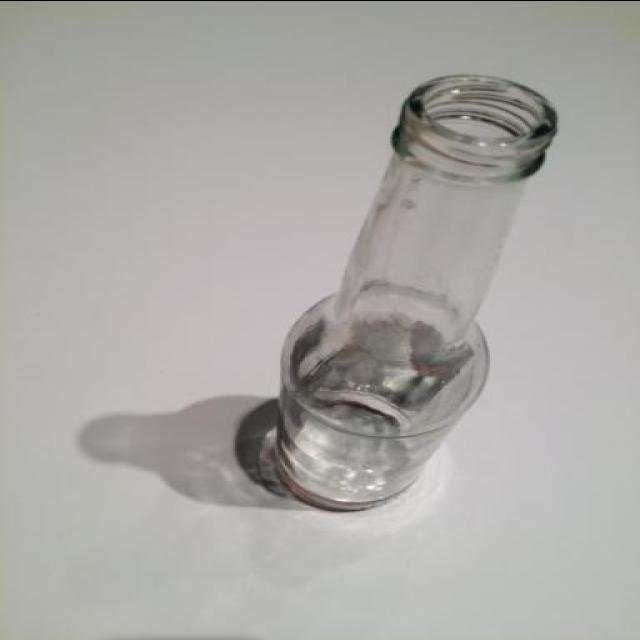glass: (221, 64, 593, 574)
